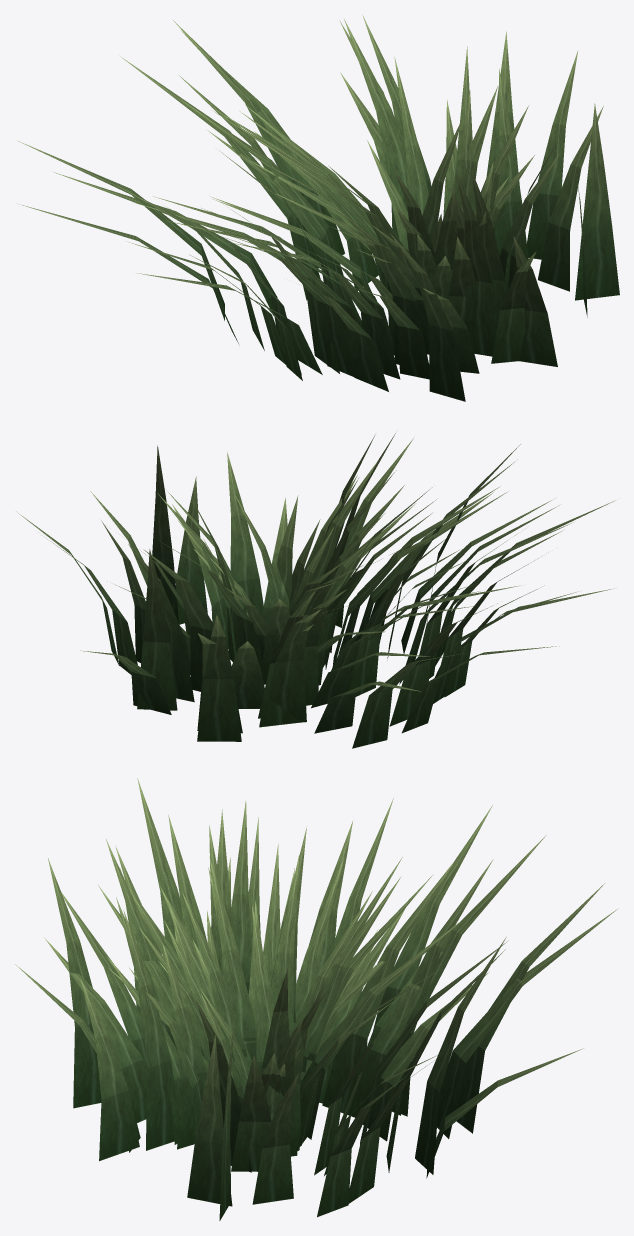
File: Grass_Lush.glb
The picture shows the model from 3 angles, top to bottom: view 1: azimuth 30°, elevation 25°; view 2: azimuth 150°, elevation 25°; view 3: azimuth 270°, elevation 25°; orthographic projection. The views are drawn at different scales.
Parts seen in each view (by area): view 1: Grass_Lush__Blades; view 2: Grass_Lush__Blades; view 3: Grass_Lush__Blades.
Boxes of the visible parts, x1,y1,x2,y2 form: Grass_Lush__Blades: [18, 15, 619, 401]; Grass_Lush__Blades: [16, 433, 615, 748]; Grass_Lush__Blades: [15, 778, 618, 1220].
Size of the model in its own units: 6.42 by 2.27 by 5.71.
Materials: 1 (1 with a texture image).
